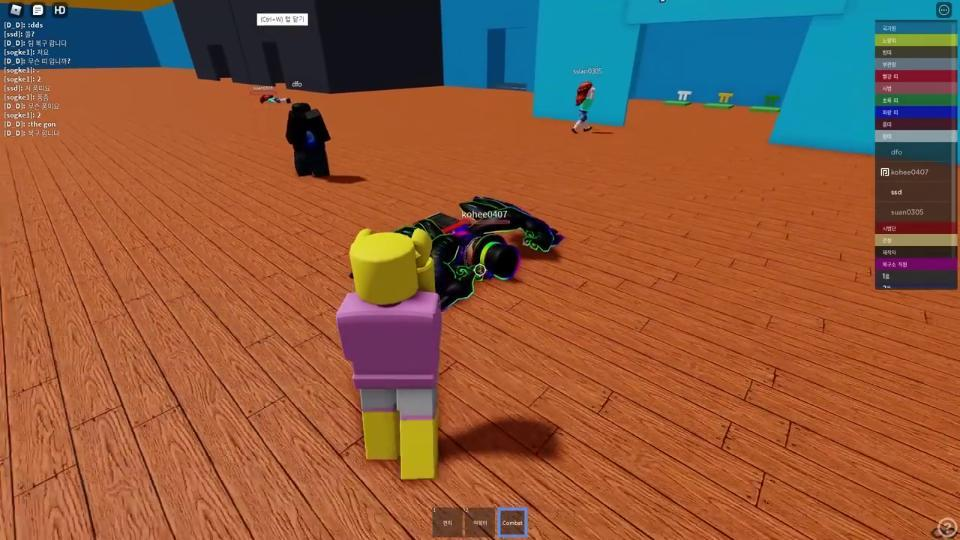Character: (336, 228, 442, 480), (396, 197, 563, 310), (286, 102, 331, 180), (572, 81, 596, 134), (259, 94, 291, 104)
